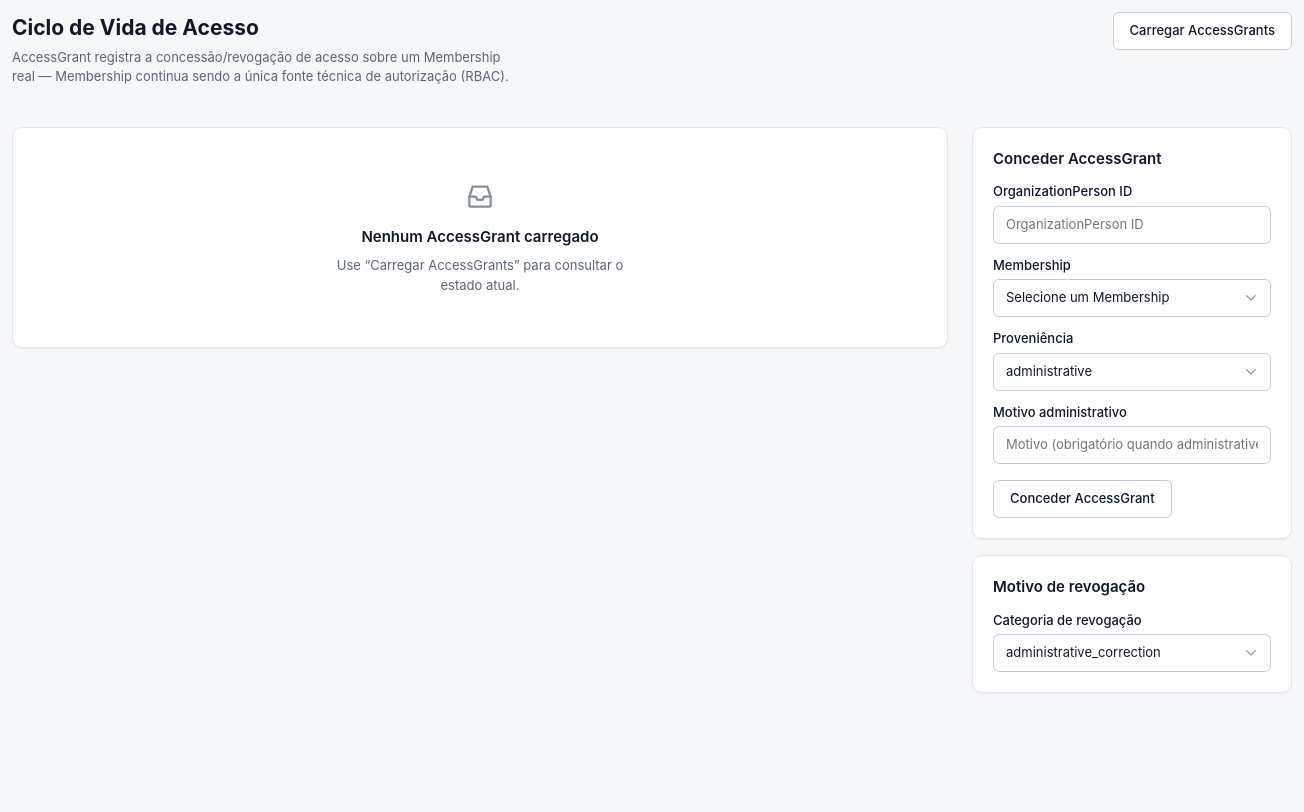
AccessGrantPanel › only shows Revogar for an active grant, never for an already revoked one
Click the button "Carregar AccessGrants".
click(1202, 31)  # box [1113, 12, 1292, 50]
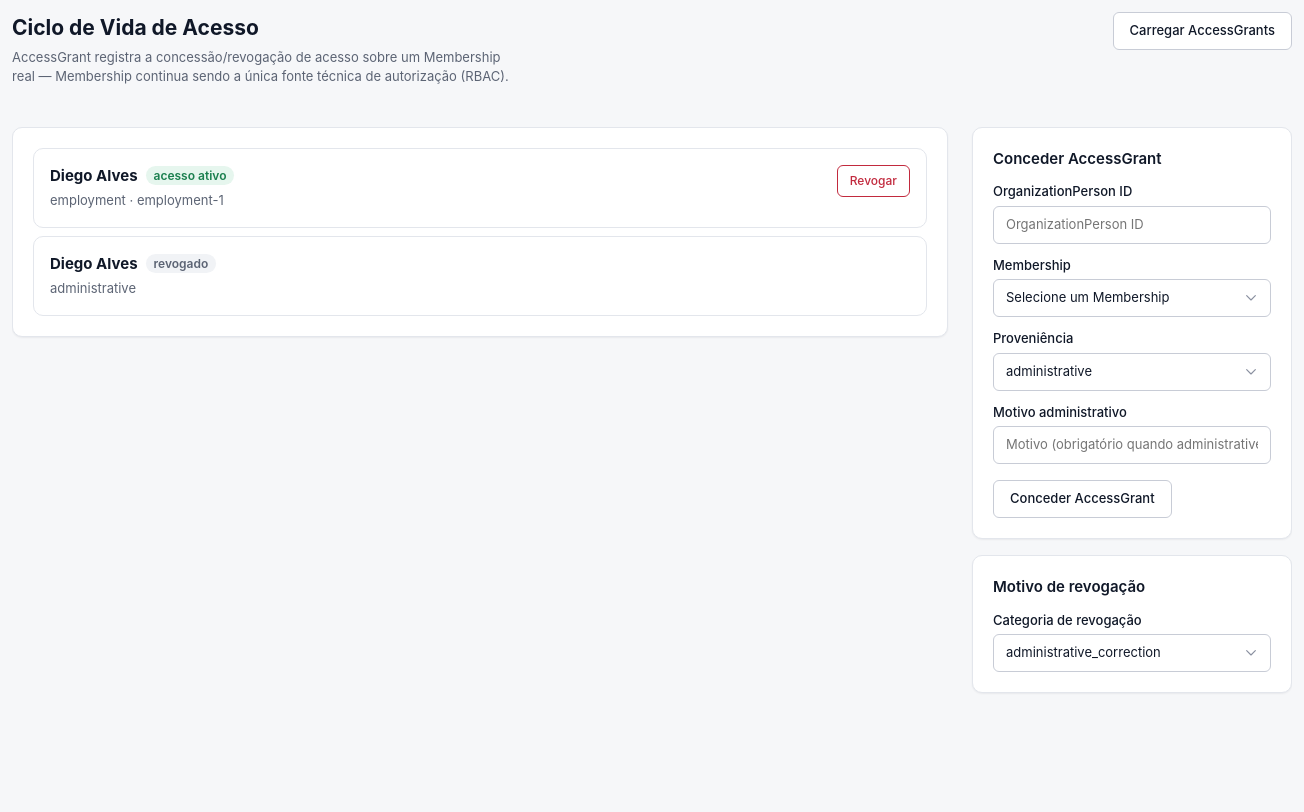
Expected: the text "acesso ativo" is shown 2 times, [146, 166, 234, 185]; [146, 254, 216, 273]
Expected: the number of buttons "Revogar" is 1, [837, 164, 910, 196]
